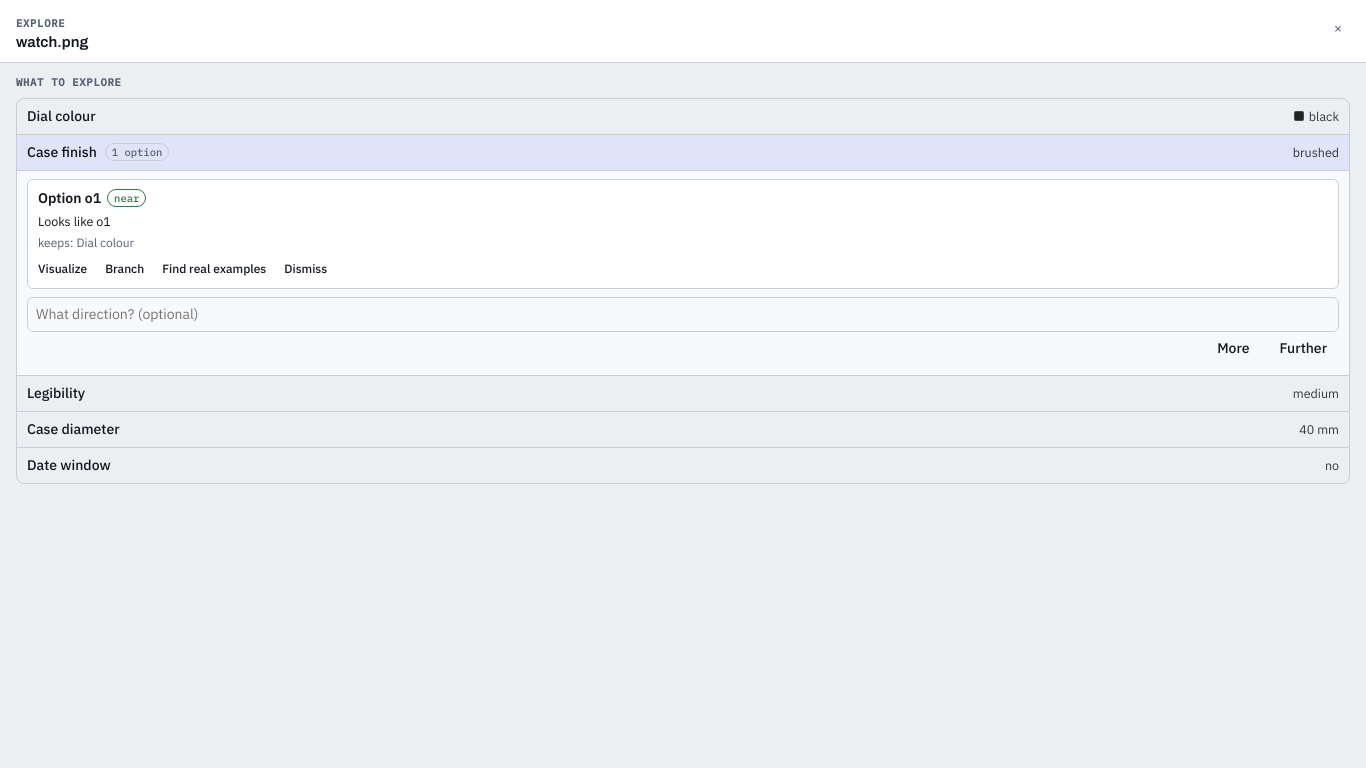
Scenario: ExplorePanel › a refused visualize puts the row back and shows the message
Click the button named "Visualize Option o1" at coordinates (63, 269), box 30,258 -> 95,280
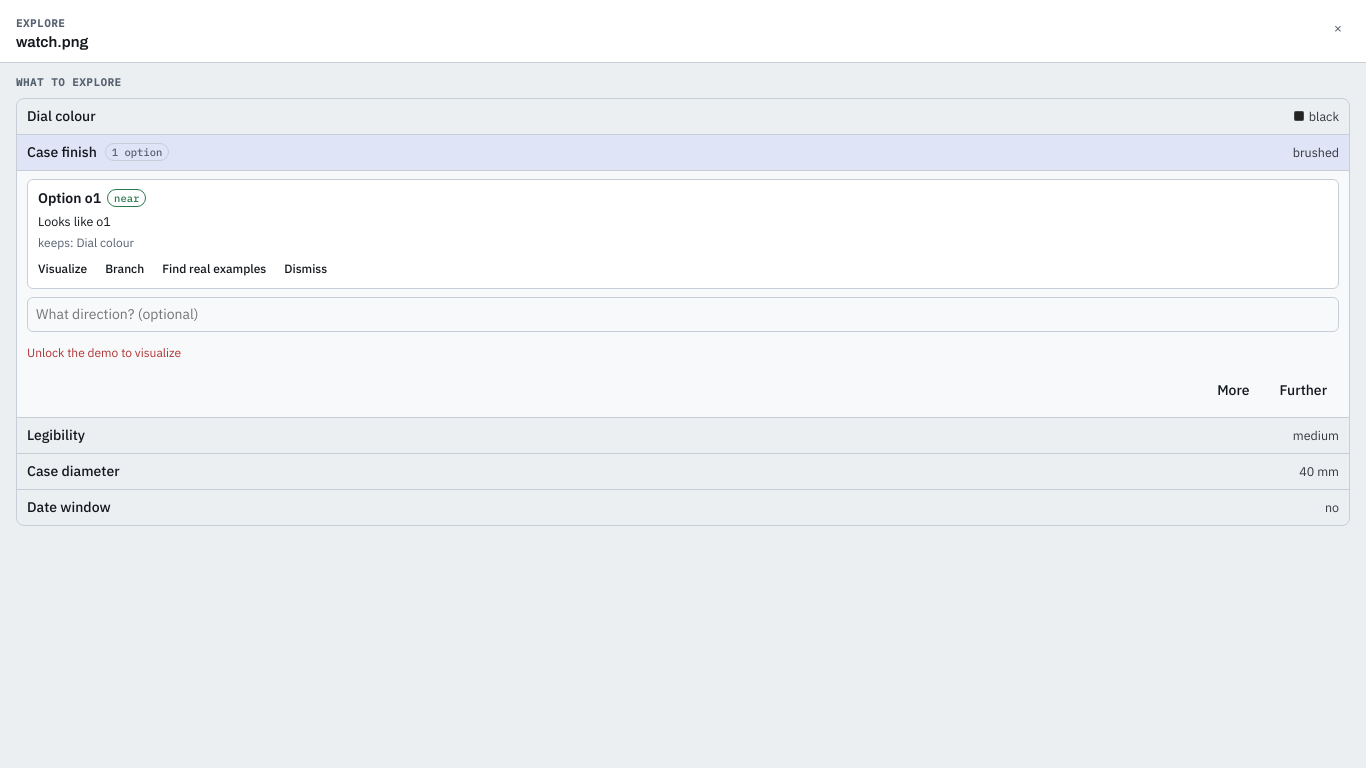
Expected: the message "Visualizing" is not shown
Expected: the message reads "Unlock the demo to visualize", 27,345 -> 181,360
